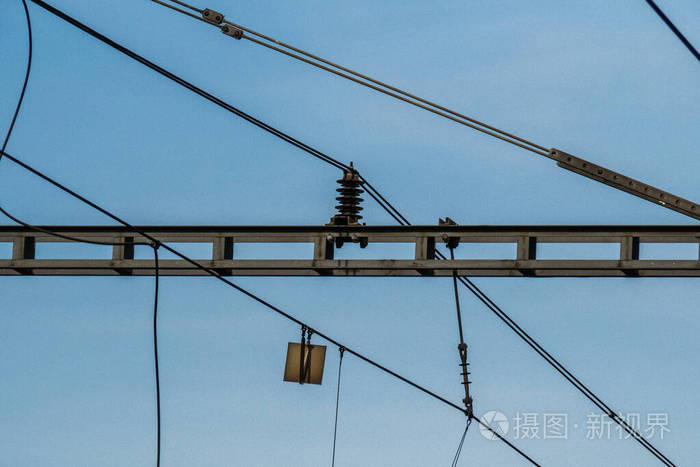insulator: (333, 179, 369, 226)
